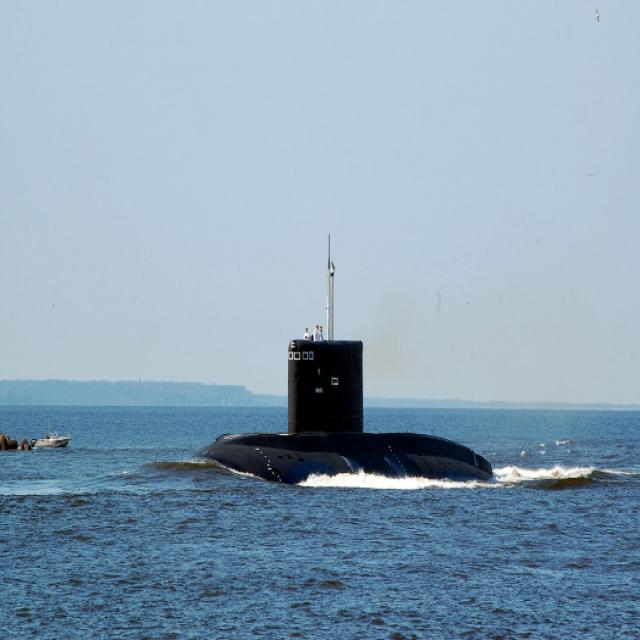submarine: (197, 228, 499, 483)
